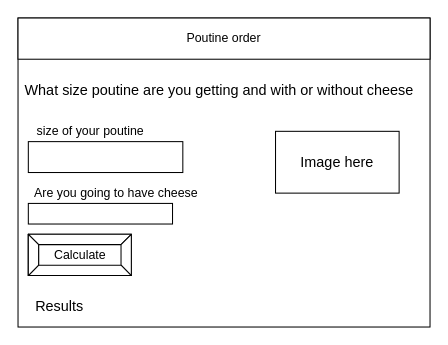
This 448x345 diagram has some shape labels left out. Here are the shapes that lost their labels. From the top down, the centre of each, then its label:
At pixel 105 157: "Write big, small or medium".
At pixel 100 213: "Write yes or no".
